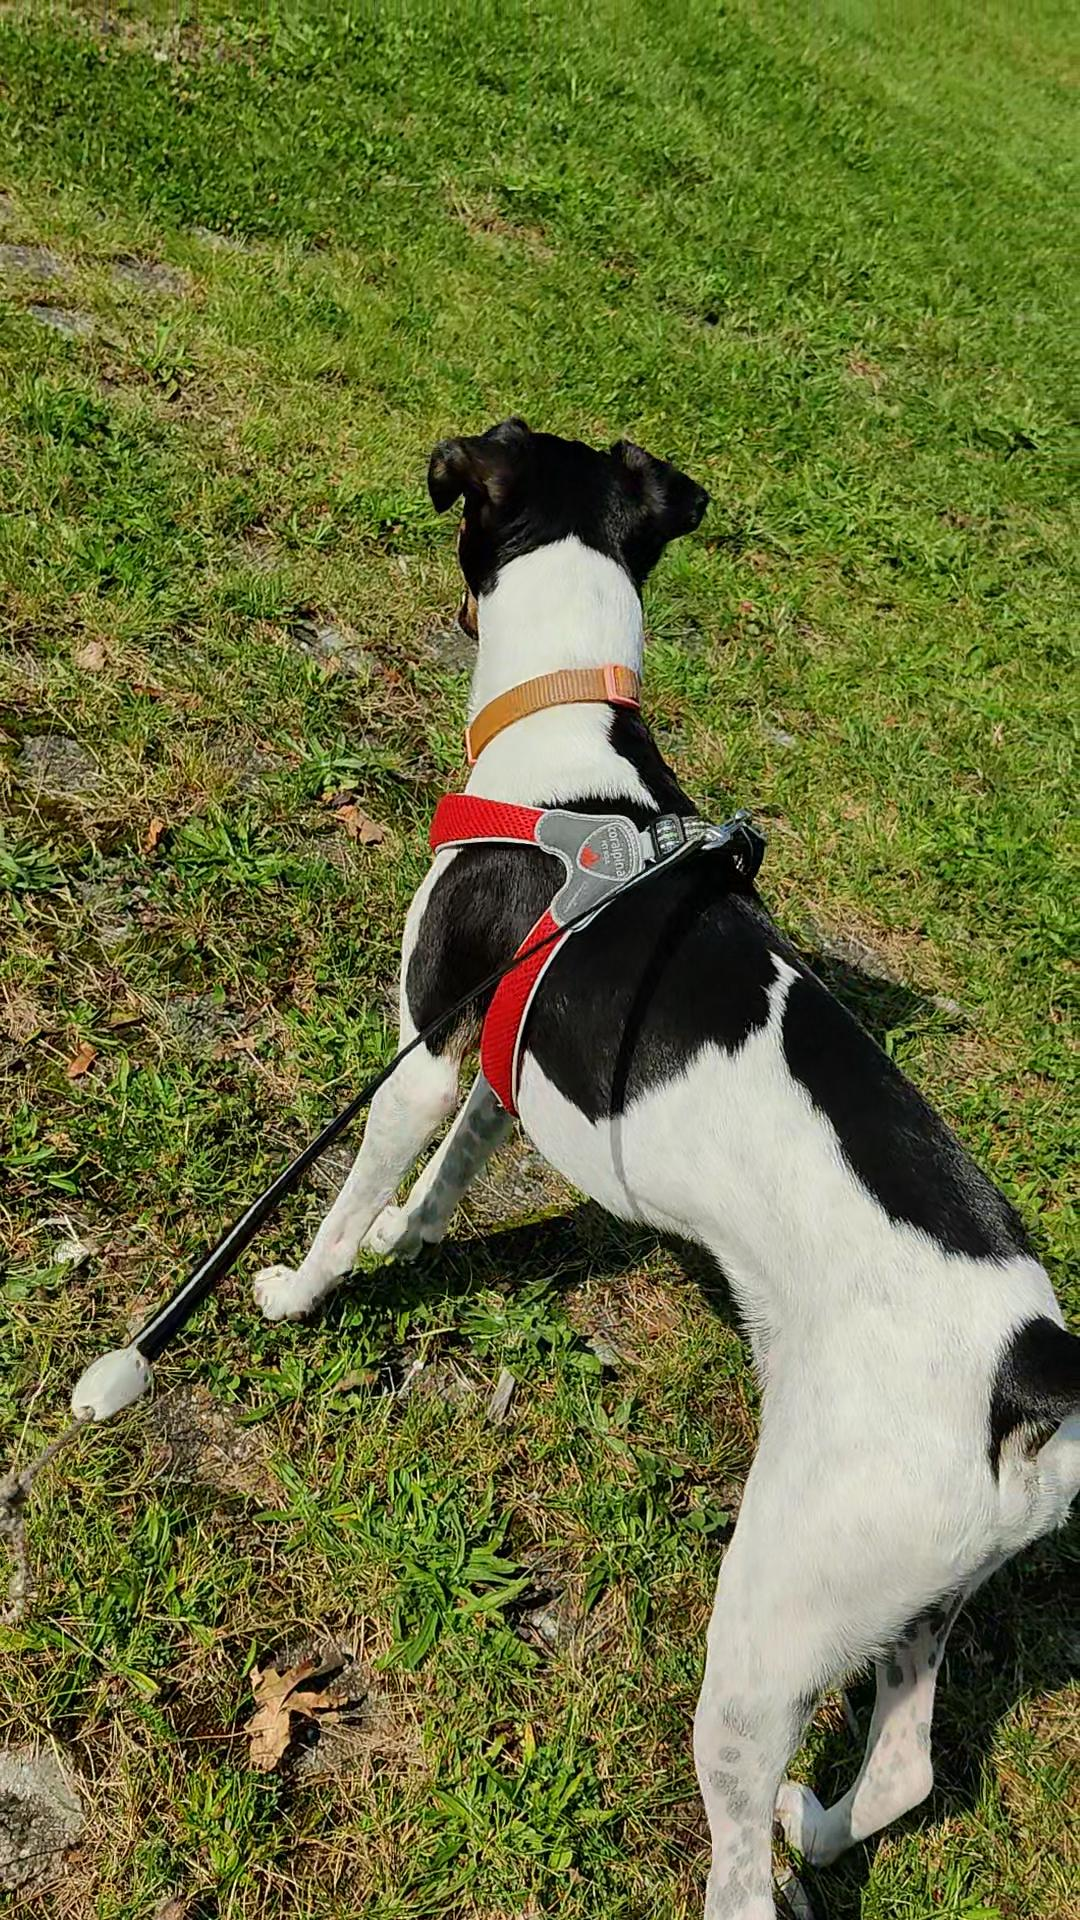Dog: (237, 407, 1079, 1919)
